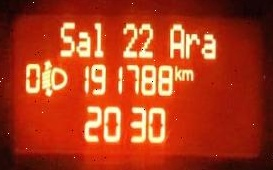0: (146, 105, 165, 142), (101, 105, 120, 141), (23, 61, 38, 94)
1: (115, 62, 123, 100), (82, 62, 89, 94)
2: (82, 102, 102, 142), (137, 22, 153, 58), (121, 21, 136, 58)
3: (130, 103, 146, 142)
7: (126, 62, 139, 95)
8: (140, 62, 155, 96), (157, 62, 171, 96)
9: (89, 60, 106, 97)
X: (59, 14, 74, 58), (167, 21, 183, 59), (201, 29, 217, 59), (93, 19, 105, 59), (185, 29, 199, 59), (76, 28, 90, 55), (182, 66, 194, 82), (174, 62, 182, 81)
